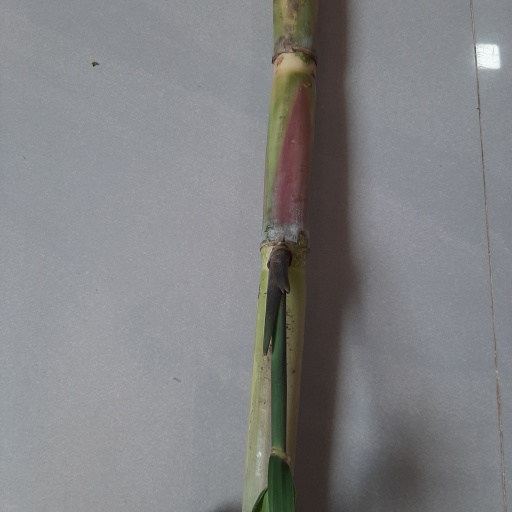Sprouted_Bud: (266, 243, 292, 294)
